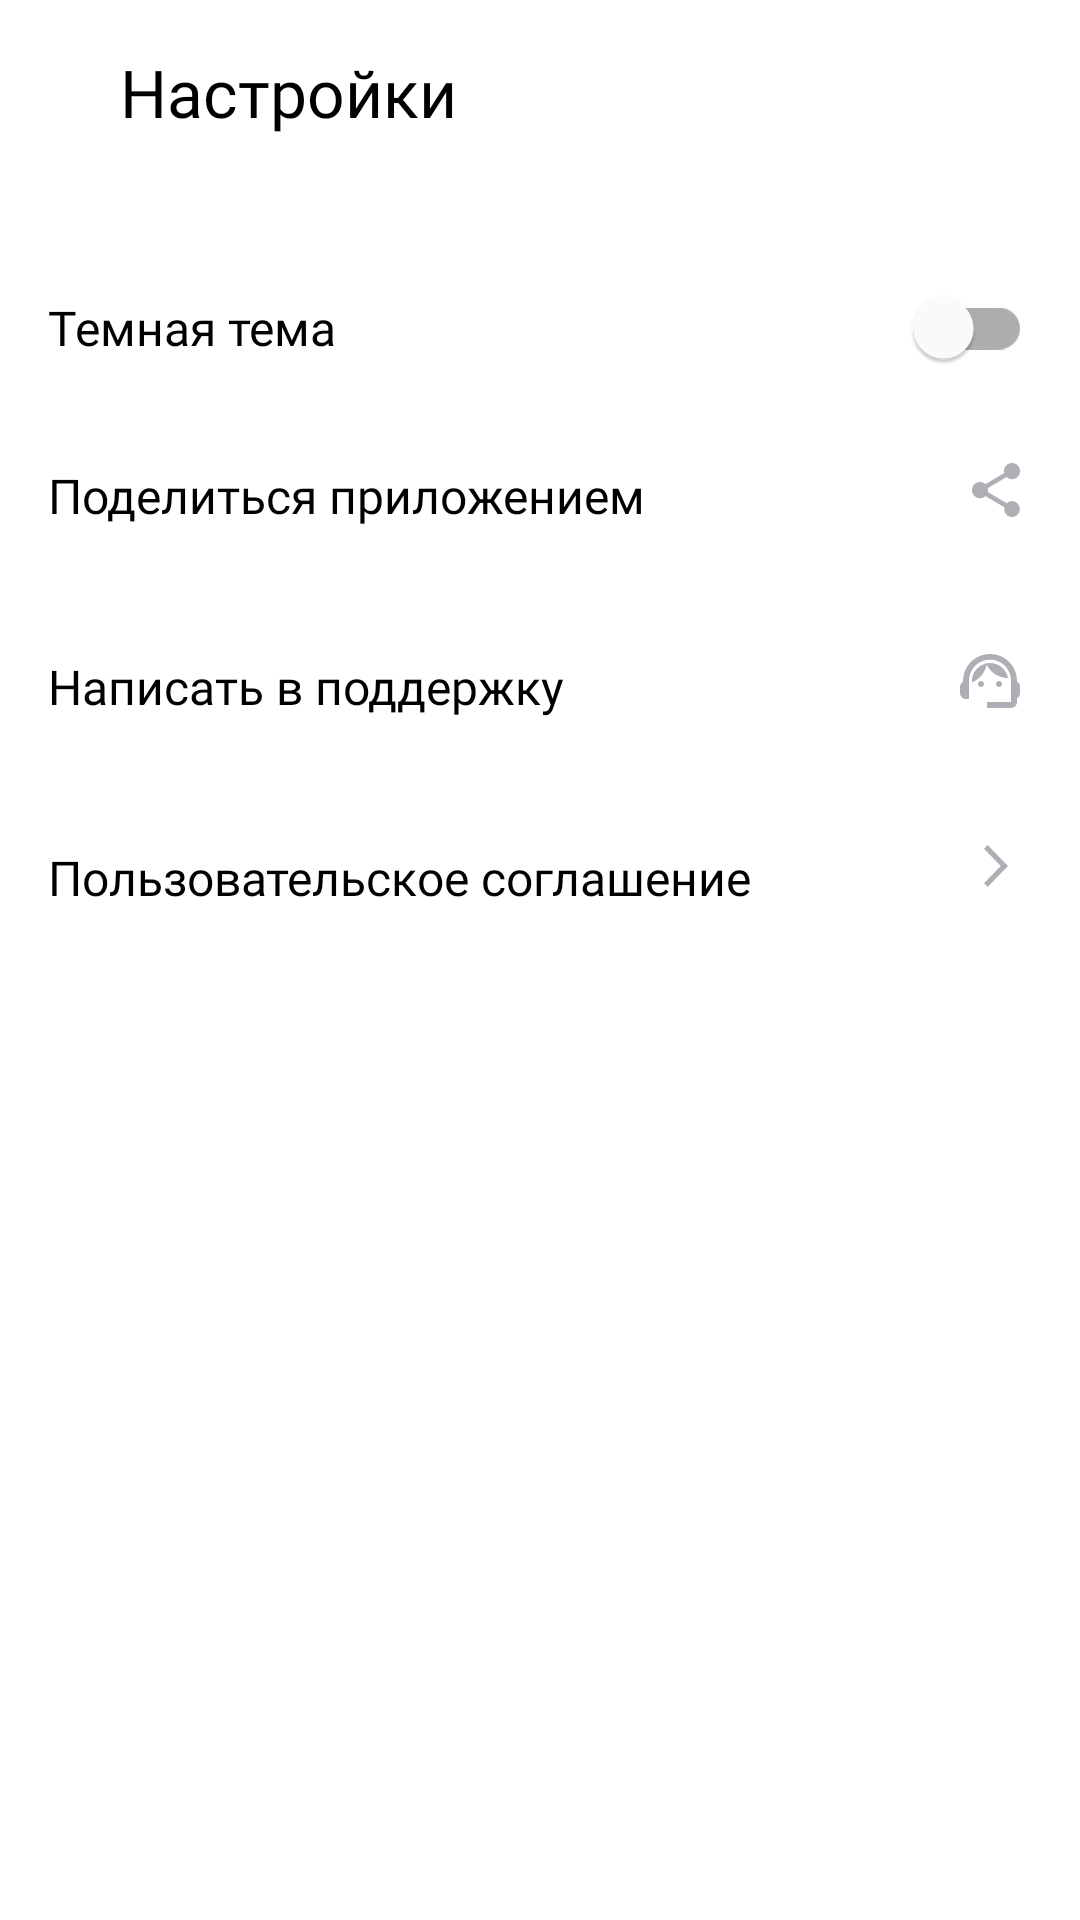

Named icons in this screenshot (1080px x 1920px) and their centers, (x=x, y=y):
arrow forward: (x=996, y=866)
share: (x=996, y=490)
support: (x=990, y=681)
